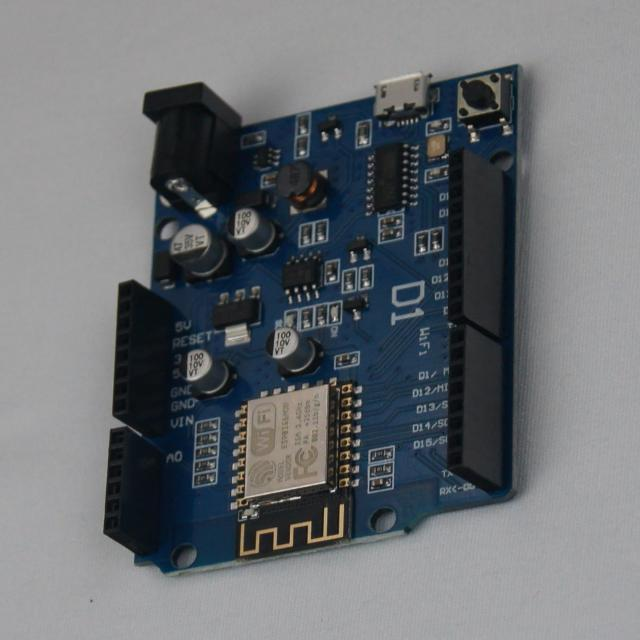Arduino Uno WiFi Shield: (105, 66, 522, 574)
